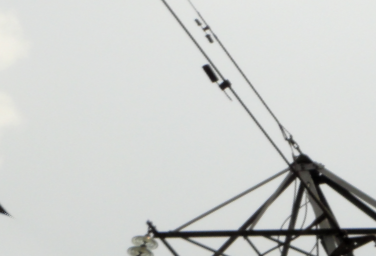damper: (193, 17, 213, 45)
damper_defect: (202, 62, 234, 102)
